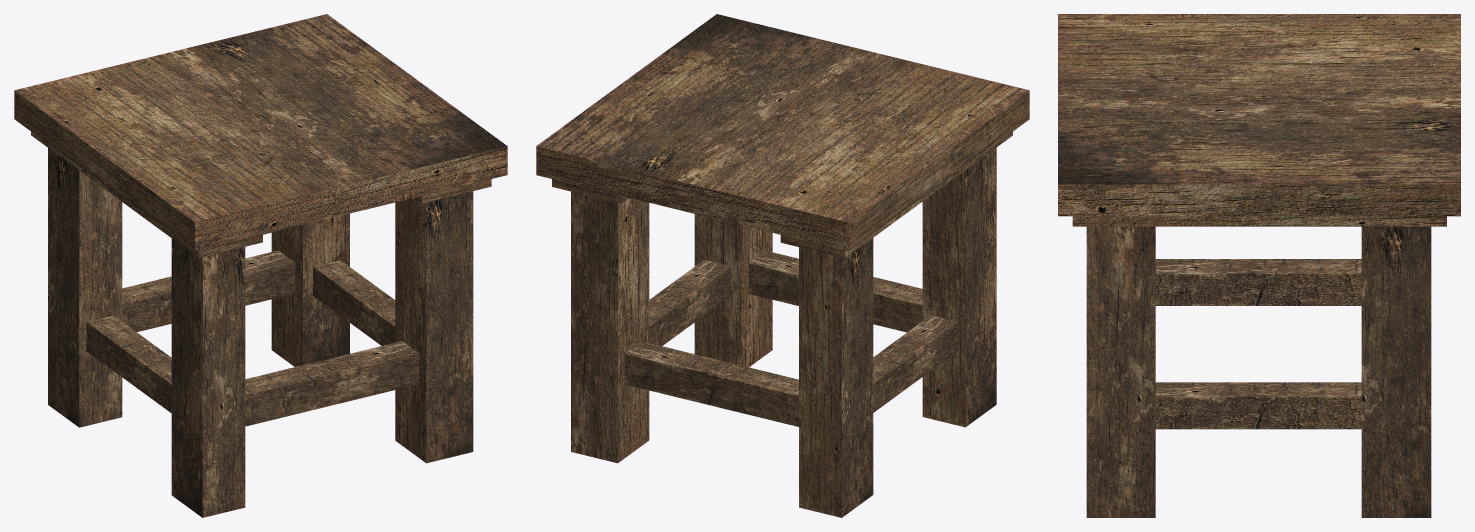
File: Hocker.fbx
3 views of the same model, side by side, from view 1: azimuth 30°, elevation 25°; view 2: azimuth 150°, elevation 25°; view 3: azimuth 270°, elevation 25° (orthographic). The views are drawn at different scales.
Parts seen in each view (by area): view 1: pCube6; view 2: pCube6; view 3: pCube6.
Part boxes in pixels (x1=…): pCube6: x1=14, y1=14, x2=507, y2=517; pCube6: x1=536, y1=14, x2=1029, y2=517; pCube6: x1=1058, y1=14, x2=1460, y2=517.
Bounding box in the file's own units: 249 × 236 × 249.
Materials: 1 (1 with a texture image).
